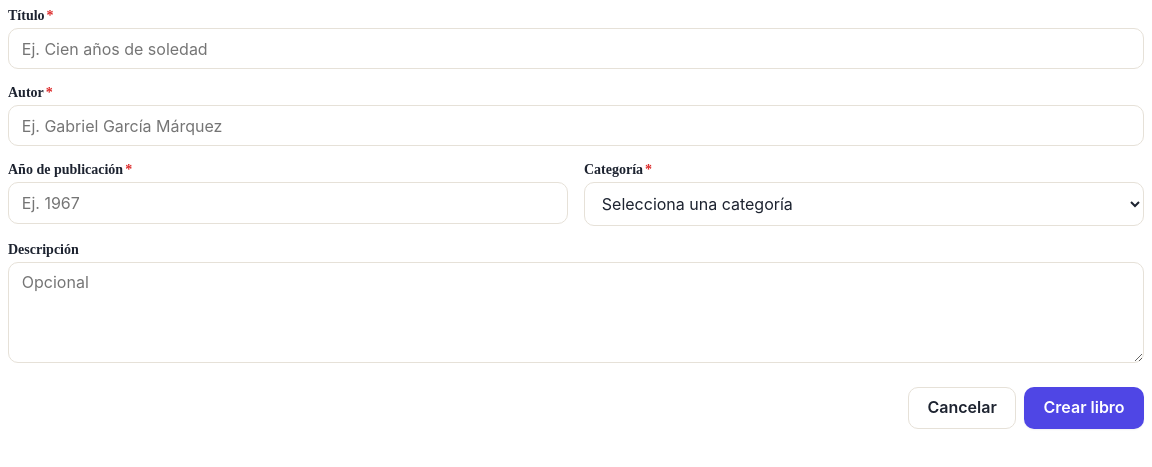
Test: BookForm › shows the validation errors returned by the backend
Type "Dune" into the field labelled "Título*".
click(576, 49); type("Dune")  # box [8,28,1144,69]
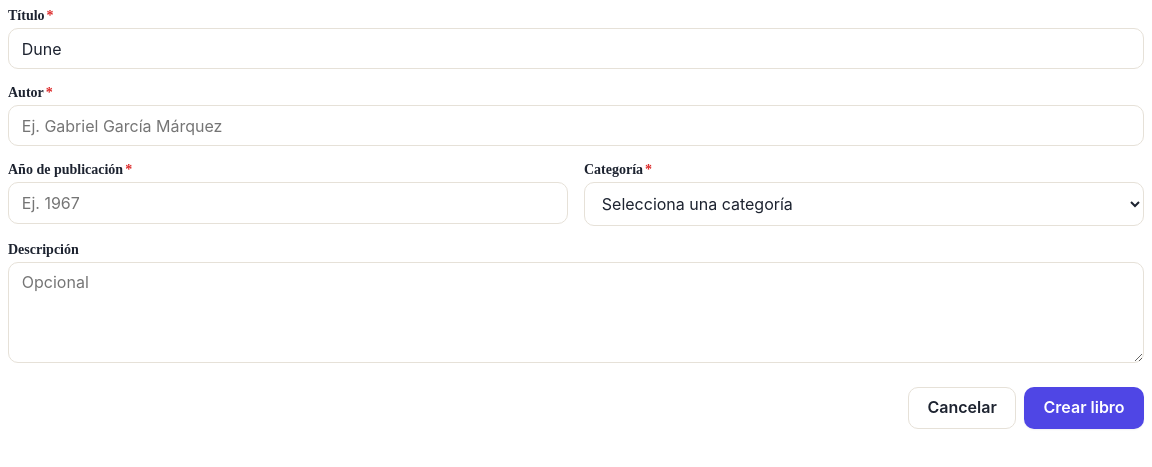
Type "Frank Herbert" into the field labelled "Autor*".
click(576, 126); type("Frank Herbert")  # box [8,105,1144,146]
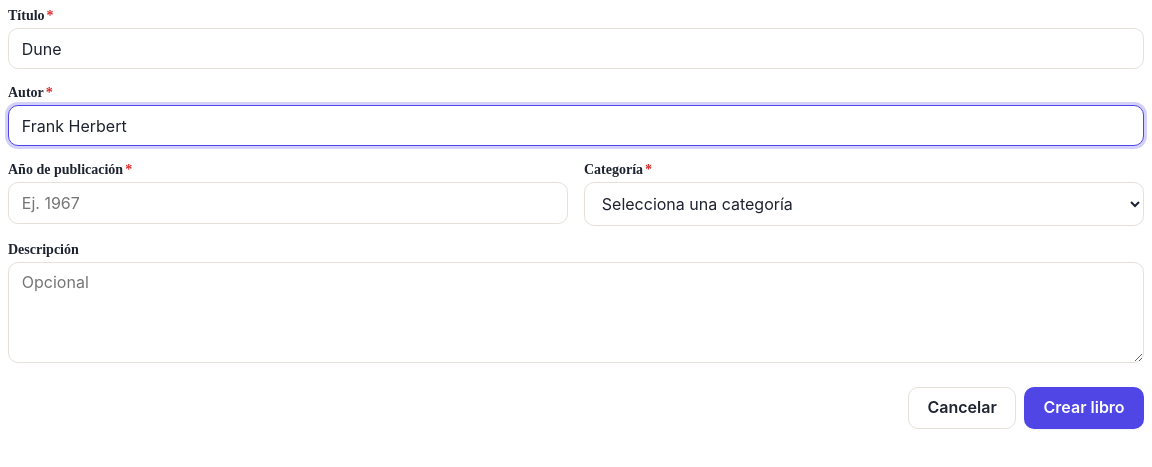
Type "1965" into the number field labelled "Año de publicación*".
click(288, 203); type("1965")  # box [8,182,568,224]
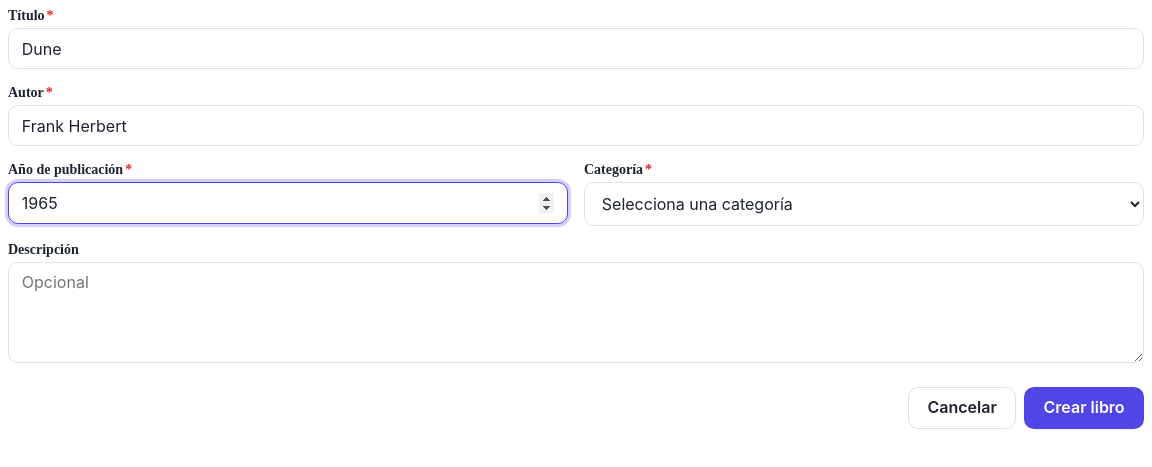
Select "Novela" in the dropdown labelled "Categoría*" at (864, 204), box [584,182,1144,226]
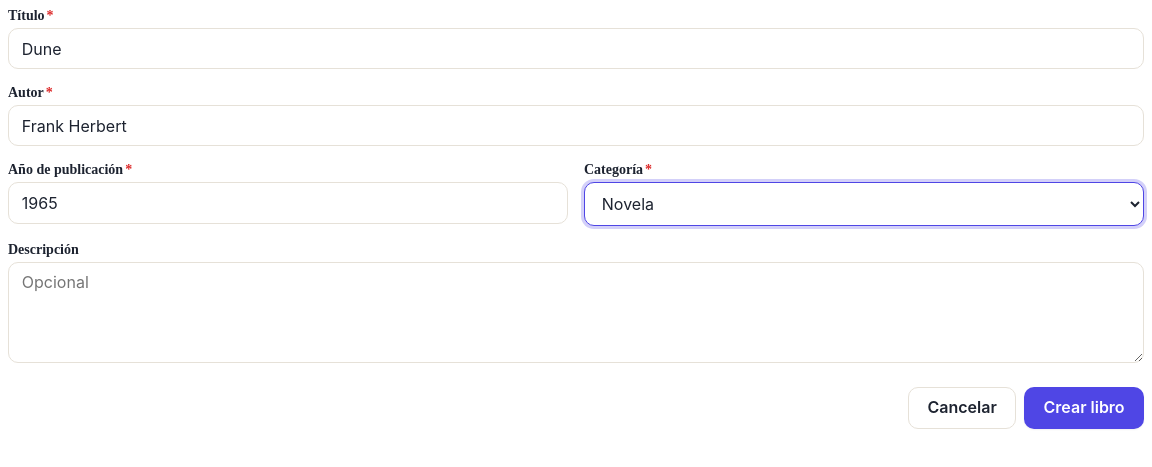
Click the button "Crear libro".
click(1084, 408)  # box [1024,387,1144,429]
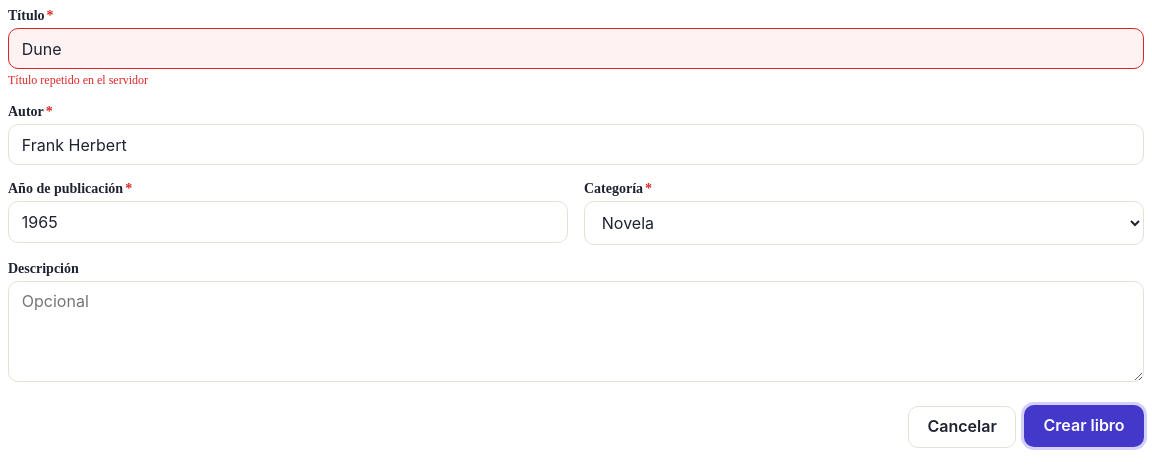
Now the text "Título repetido en el servidor" is shown, box [8,73,148,87]
